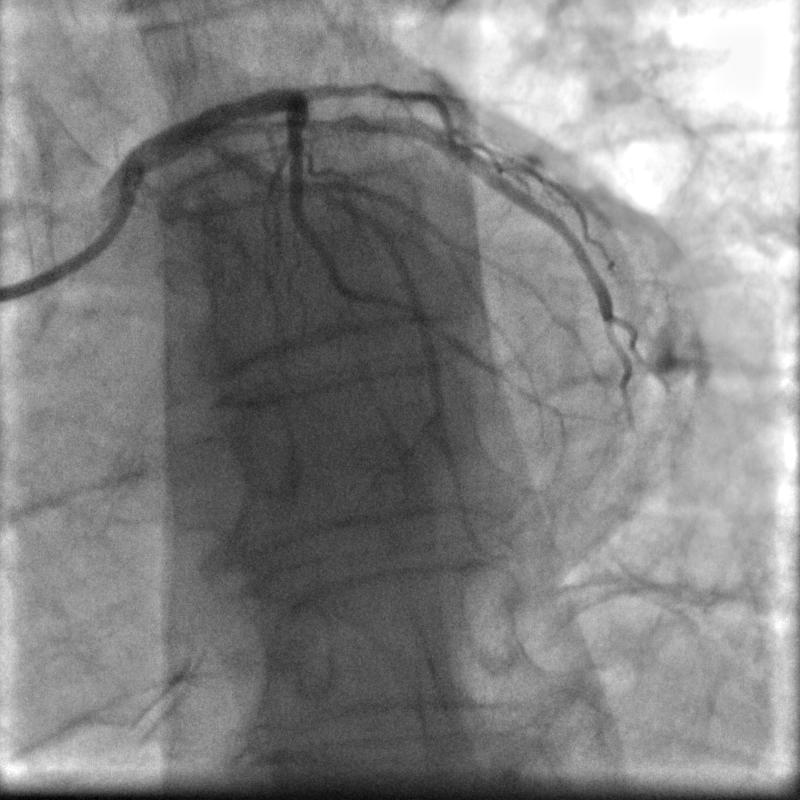Stenosis: (288, 117, 312, 186)
